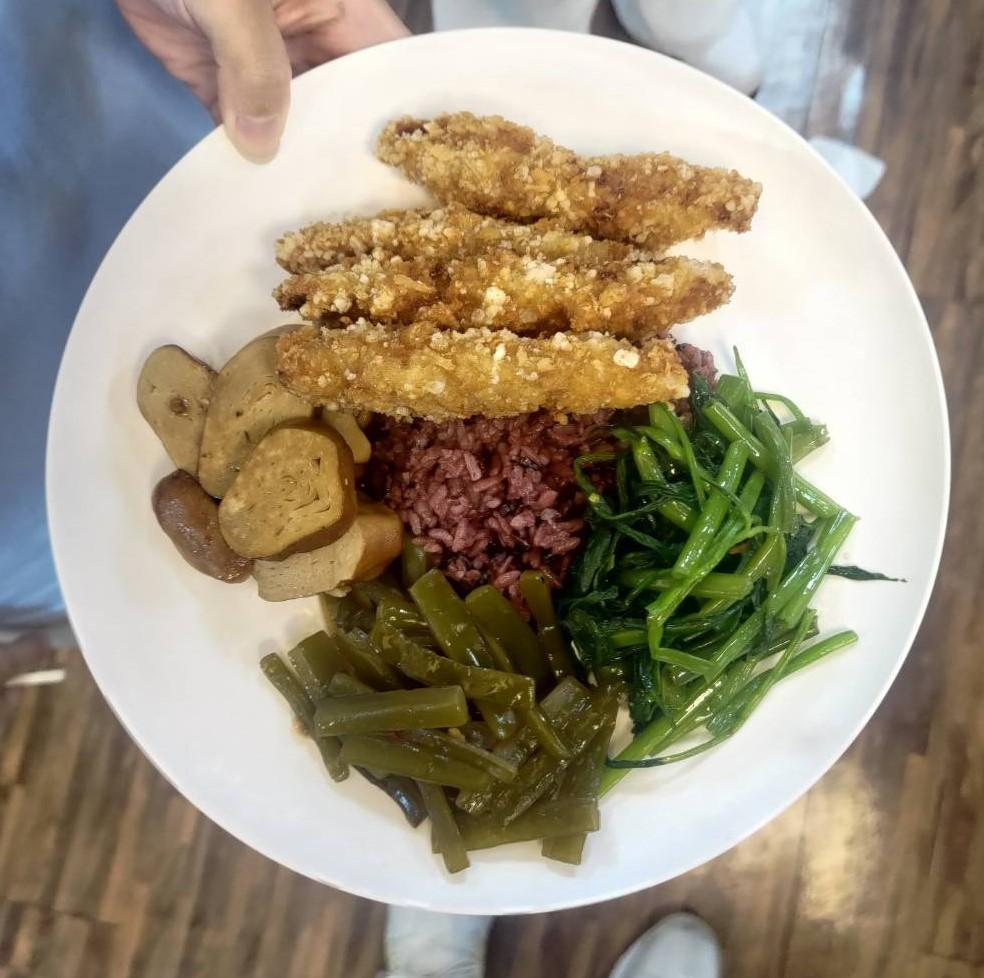big fried chicken leg: (42, 16, 962, 928)
braised fish: (336, 322, 722, 610)
braised fish fillet: (573, 382, 848, 767), (280, 572, 619, 867), (130, 318, 402, 599)
braised pork: (264, 102, 764, 424)
